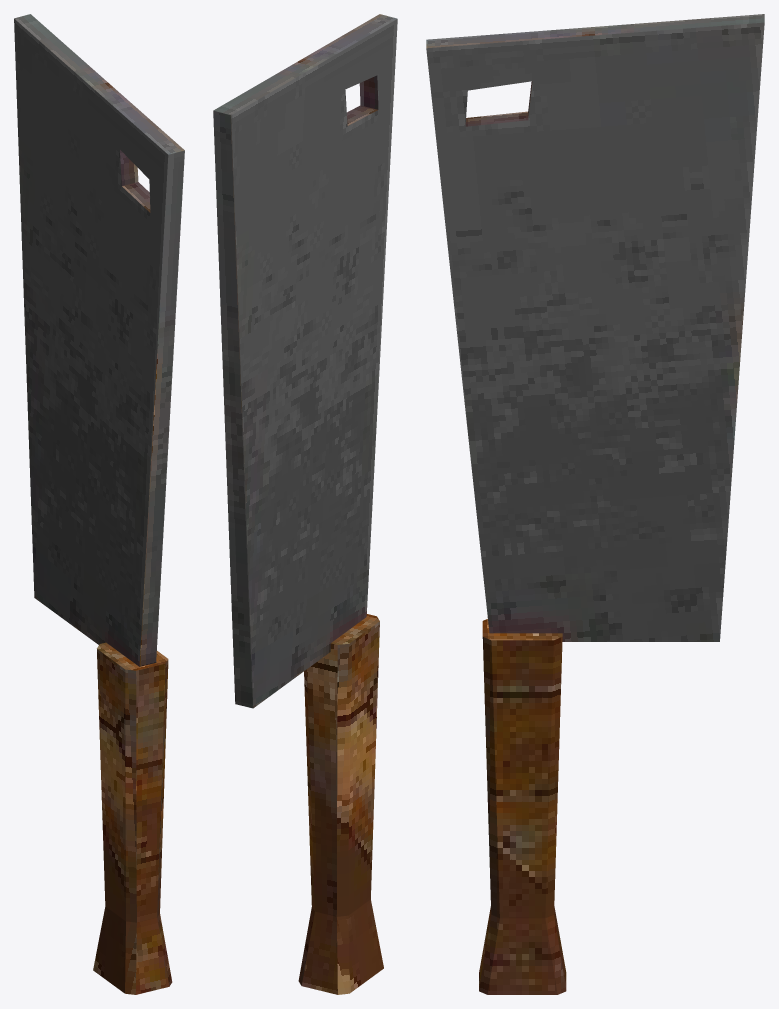
The model's file is cleaver-transformed.glb.
3 views of the same model, side by side, from view 1: azimuth 30°, elevation 25°; view 2: azimuth 150°, elevation 25°; view 3: azimuth 270°, elevation 25° (orthographic). The views are drawn at different scales.
Visible parts, largest first — view 1: Meatcleaver; view 2: Meatcleaver; view 3: Meatcleaver.
Part boxes in pixels (x1,y1,x2,y2): Meatcleaver: (14,14,184,994); Meatcleaver: (213,14,397,994); Meatcleaver: (426,14,764,994).
Size of the model in its own units: 0.0435 by 0.7716 by 0.2455.
Materials: 1 (1 with a texture image).
